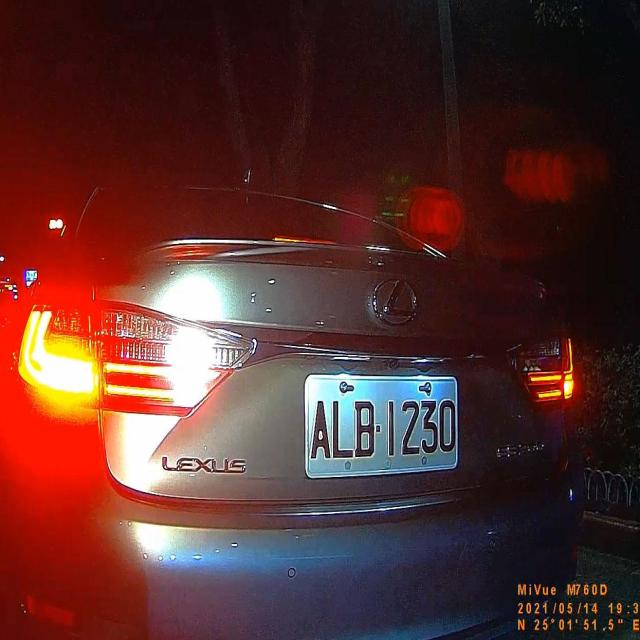license-plate: (305, 373, 458, 478)
